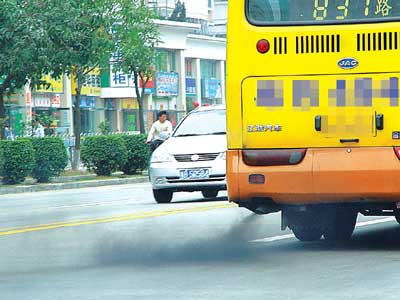smoke: (96, 210, 266, 269)
